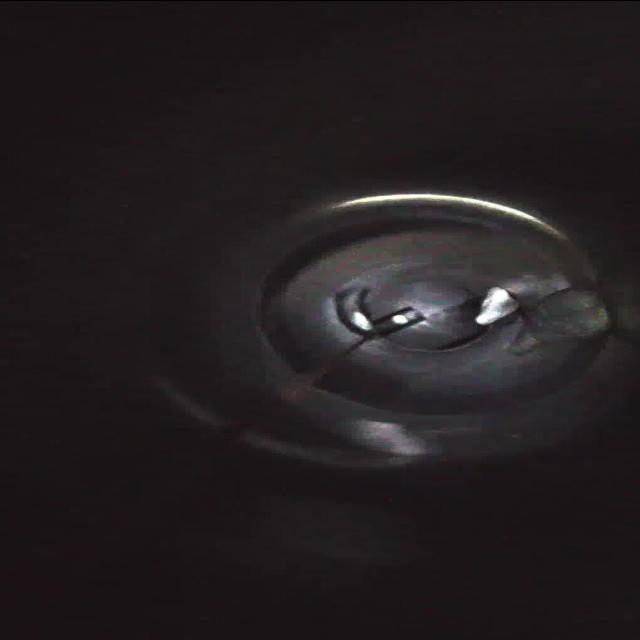impurity: (530, 280, 628, 340), (472, 283, 524, 331)
